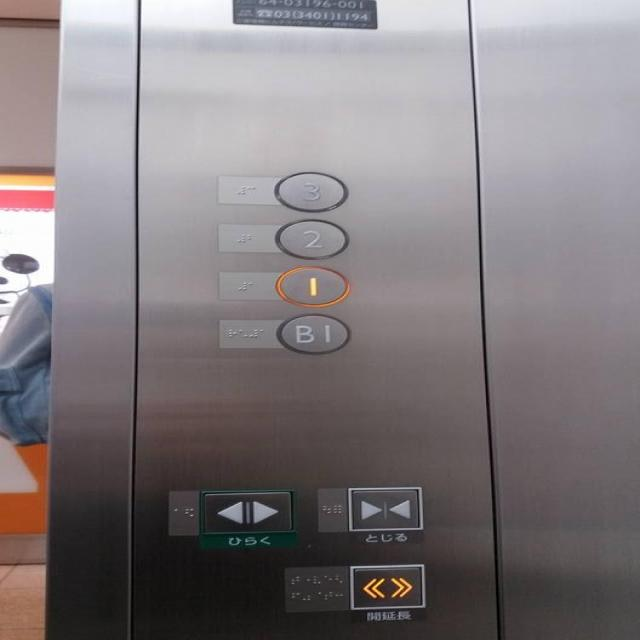1: (273, 263, 350, 308)
2: (274, 218, 349, 259)
3: (274, 171, 349, 212)
B1: (274, 310, 353, 356)
close: (339, 483, 427, 533)
open: (196, 487, 300, 536), (343, 562, 430, 611)
